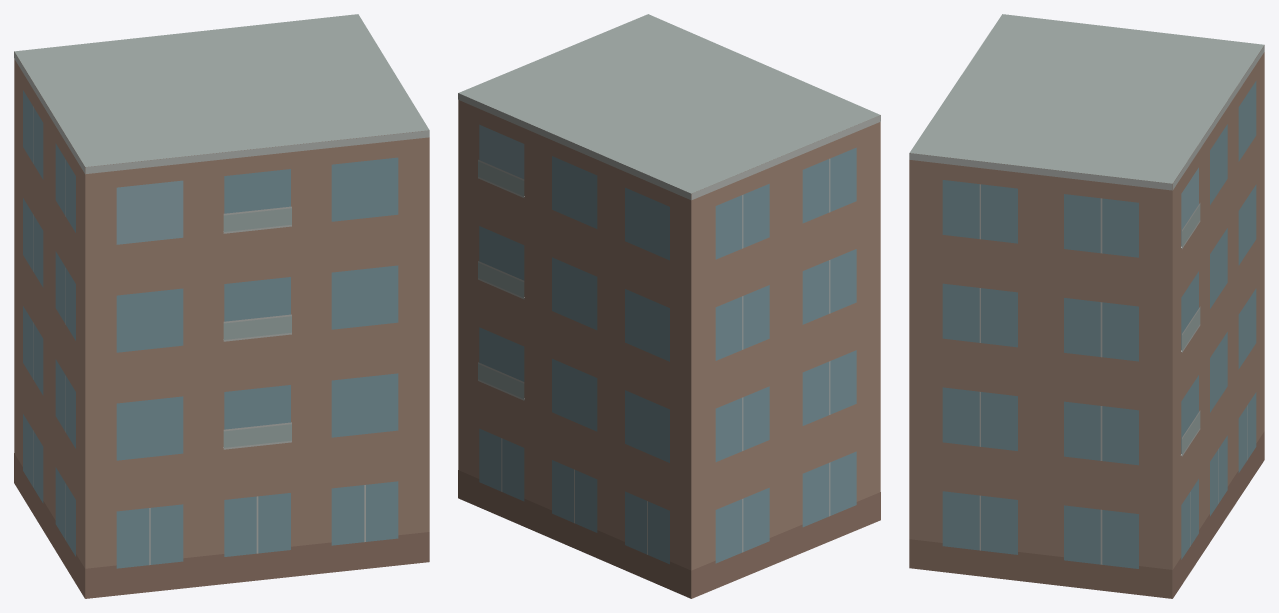
Rendered from survey-upis-32655033.glb.
3 renders of one model, left to right at view 1: azimuth 30°, elevation 25°; view 2: azimuth 150°, elevation 25°; view 3: azimuth 270°, elevation 25°, orthographic. The views are drawn at different scales.
Parts seen in each view (by area): view 1: survey-upis-32655033.tmp; view 2: survey-upis-32655033.tmp; view 3: survey-upis-32655033.tmp.
Part boxes in pixels (box(x1,y1,x2,y2)): survey-upis-32655033.tmp: box(14, 14, 429, 598); survey-upis-32655033.tmp: box(458, 14, 880, 598); survey-upis-32655033.tmp: box(909, 14, 1264, 598).
Bounding box in the file's own units: 12.99 × 14.8 × 11.49.
